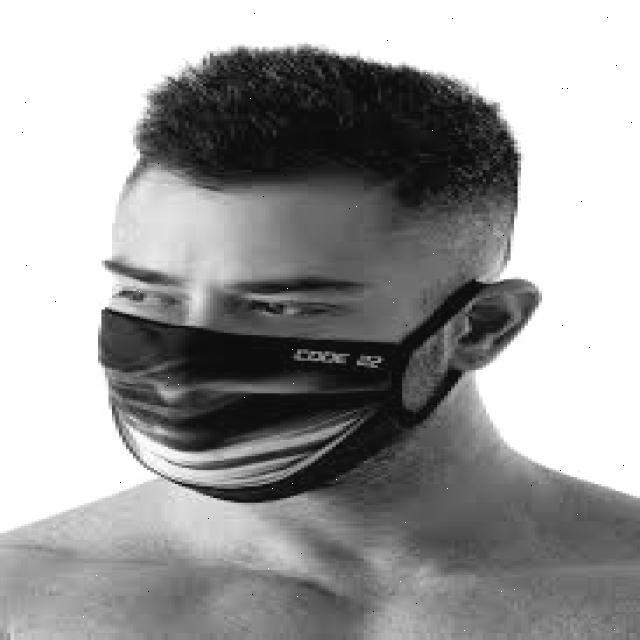fake: (82, 288, 526, 504)
real: (97, 169, 426, 515)
